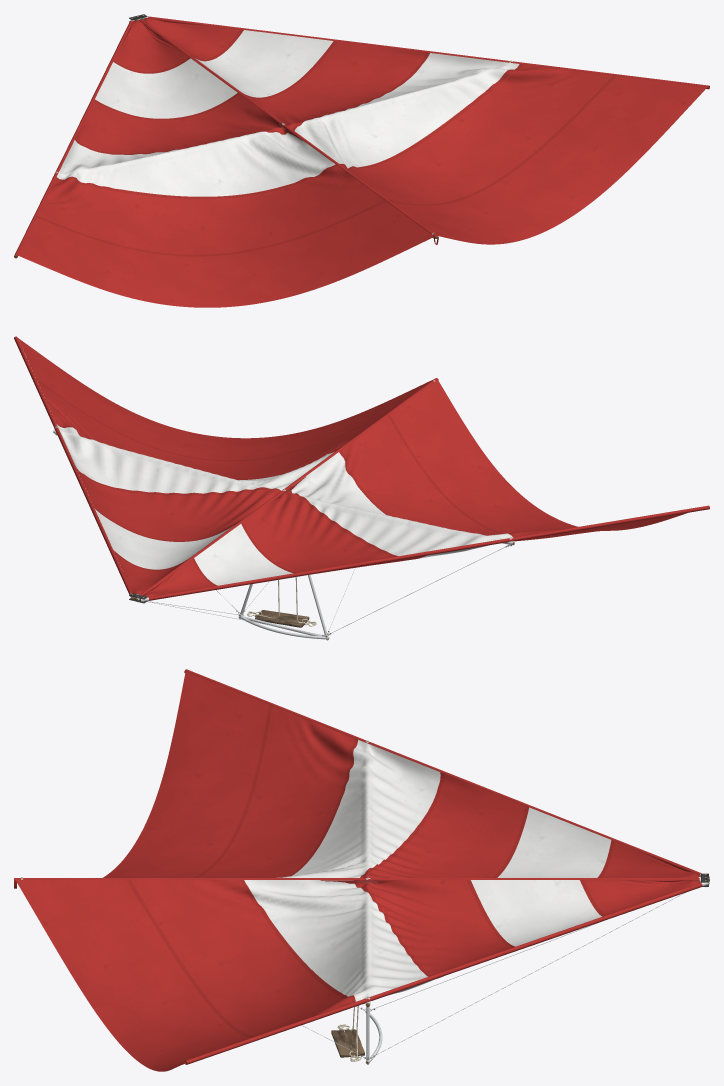
3 renders of one model, top to bottom at view 1: azimuth 30°, elevation 25°; view 2: azimuth 150°, elevation 25°; view 3: azimuth 270°, elevation 25°, orthographic. The views are drawn at different scales.
Parts seen in each view (by area): view 1: Sail, Sail LE sleeve R, Sail keel channel, Sail LE sleeve L; view 2: Sail, Sail LE sleeve L, Sail LE sleeve R, Sail keel channel, Harness seat; view 3: Sail, Sail LE sleeve R, Sail LE sleeve L, Sail keel channel, Harness seat.
Part boxes in pixels (x1,y1,x2,y2): Sail: (18, 18, 706, 307); Sail LE sleeve R: (148, 16, 709, 89); Sail keel channel: (139, 19, 438, 244); Sail LE sleeve L: (14, 20, 132, 258); Sail: (18, 338, 686, 596); Sail LE sleeve L: (148, 505, 709, 600); Sail LE sleeve R: (14, 336, 132, 594); Sail keel channel: (140, 378, 438, 595); Harness seat: (255, 610, 309, 627); Sail: (15, 671, 700, 1071); Sail LE sleeve R: (184, 883, 702, 1064); Sail LE sleeve L: (184, 669, 701, 876); Sail keel channel: (14, 878, 699, 888); Harness seat: (331, 1029, 364, 1057).
Size of the model in its own units: 7.36 by 1.53 by 5.51.
19 materials, 16 textured.
